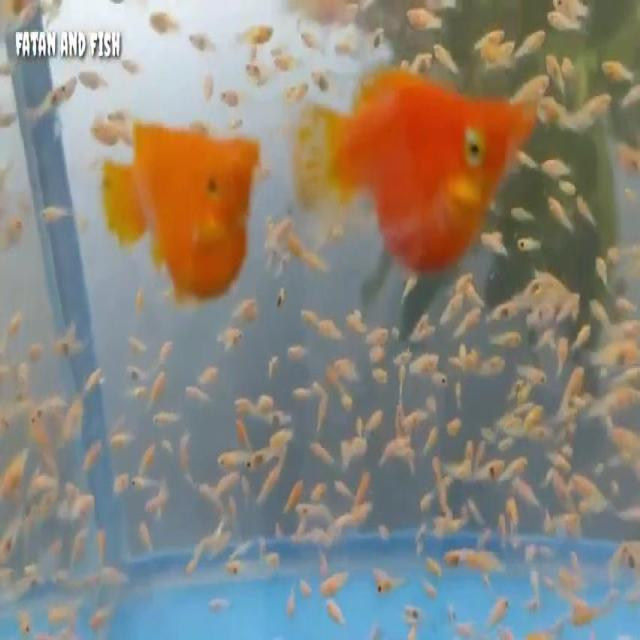PlatyFish: (290, 54, 542, 286), (97, 114, 265, 309)
